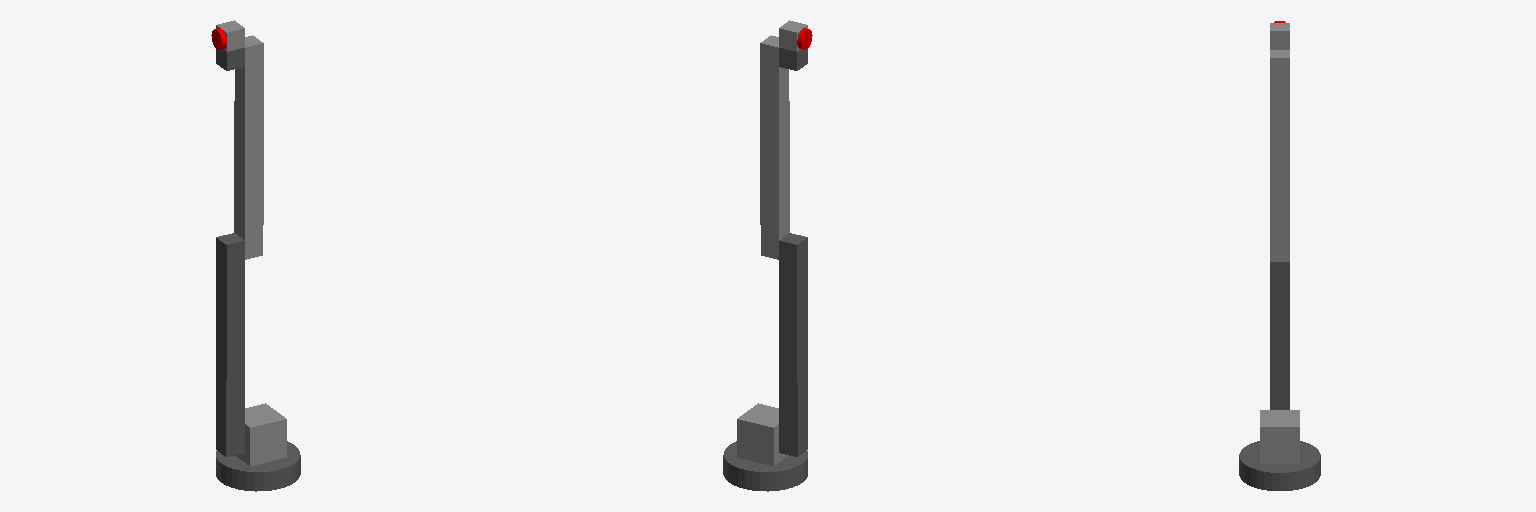
robot.urdf — my_robot:
<?xml version="1.0" ?>
<robot name="my_robot">
    <material name="red">
        <color rgba="1.0 0.0 0.0 1.0" />
    </material>
    n
    <material name="green">
        <color rgba="0.0 1.0 0.0 1.0" />
    </material>
    <material name="blue">
        <color rgba="0.0 0.0 1.0 1.0" />
    </material>
    <material name="dark">
        <color rgba="0.4 0.4 0.4 1.0" />
    </material>
    <material name="light">
        <color rgba="0.6 0.6 0.6 1.0" />
    </material>
    <link name="base_link">
        <visual>
            <geometry>
                <cylinder length="0.05" radius="0.1" />
            </geometry>
            <origin rpy="0 0 0" xyz="0 0 -0.025" />
            <material name="dark" />
        </visual>
    </link>
    <link name="link1">
        <visual>
            <geometry>
                <box size="0.1 0.1 0.1" />
            </geometry>
            <origin rpy="0 0 0" xyz="0 0 0.05" />
            <material name="light" />
        </visual>
    </link>
    <link name="link2">
        <visual>
            <geometry>
                <box size="0.55 0.05 0.05" />
            </geometry>
            <origin rpy="0 0 0" xyz="0.25 0 0.075" />
            <material name="dark" />
        </visual>
    </link>
    <link name="link3">
        <visual>
            <geometry>
                <box size="0.55 0.05 0.05" />
            </geometry>
            <origin rpy="0 0 0" xyz="0.25 0 0.025" />
            <material name="light" />
        </visual>
    </link>
    <link name="link4">
        <visual>
            <geometry>
                <box size="0.05 0.05 0.05" />
            </geometry>
            <origin rpy="0 0 0" xyz="0 0 0.075" />
            <material name="dark" />
        </visual>
    </link>
    <link name="link5">
        <visual>
            <geometry>
                <box size="0.05 0.05 0.05" />
            </geometry>
            <origin rpy="0 0 0" xyz="0 0 0.05" />
            <material name="light" />
        </visual>
    </link>
    <link name="link6">
        <visual>
            <geometry>
                <cylinder length="0.025" radius="0.025" />
            </geometry>
            <origin rpy="0 0 0" xyz="0 0 -0.0125" />
            <material name="red" />
        </visual>
    </link>
    <joint name="joint1" type="revolute">
        <parent link="base_link" />
        <child link="link1" />
        <origin rpy="0 0 0" xyz="0 0 0" />
        <axis xyz="0 0 1" />
        <limit lower="-6.28" upper="6.28" velocity="1.0" effort="1000.0" />
    </joint>
    <joint name="joint2" type="revolute">
        <parent link="link1" />
        <child link="link2" />
        <origin rpy="0 -1.57 0" xyz="0 0 0.05" />
        <axis xyz="0 0 1" />
        <limit lower="-6.28" upper="6.28" velocity="1.0" effort="1000.0" />
    </joint>
    <joint name="joint3" type="revolute">
        <parent link="link2" />
        <child link="link3" />
        <origin rpy="0 0 0" xyz="0.5 0 0" />
        <axis xyz="0 0 1" />
        <limit lower="-6.28" upper="6.28" velocity="1.0" effort="1000.0" />
    </joint>
    <joint name="joint4" type="revolute">
        <parent link="link3" />
        <child link="link4" />
        <origin rpy="0 0 0" xyz="0.5 0 0" />
        <axis xyz="0 0 1" />
        <limit lower="-6.28" upper="6.28" velocity="1.0" effort="1000.0" />
    </joint>
    <joint name="joint5" type="revolute">
        <parent link="link4" />
        <child link="link5" />
        <origin rpy="0 1.57 0" xyz="0 0 0.075" />
        <axis xyz="0 0 1" />
        <limit lower="-6.28" upper="6.28" velocity="1.0" effort="1000.0" />
    </joint>
    <joint name="joint6" type="revolute">
        <parent link="link5" />
        <child link="link6" />
        <origin rpy="0 -1.57 0" xyz="-0.0375 0 0.05" />
        <axis xyz="0 0 1" />
        <limit lower="-6.28" upper="6.28" velocity="1.0" effort="1000.0" />
    </joint>
    
<transmission name="trans_joint1">
        <type>transmission_interface/SimpleTransmission</type>
        <joint name="joint1">
            <hardwareInterface>hardware_interface/EffortJointInterface</hardwareInterface>
        </joint>
        <actuator name="joint1_motor">
            <hardwareInterface>hardware_interface/EffortJointInterface</hardwareInterface>
            <mechanicalReduction>1</mechanicalReduction>
        </actuator>
    </transmission>
    <transmission name="trans_joint2">
        <type>transmission_interface/SimpleTransmission</type>
        <joint name="joint2">
            <hardwareInterface>hardware_interface/EffortJointInterface</hardwareInterface>
        </joint>
        <actuator name="joint2_motor">
            <hardwareInterface>hardware_interface/EffortJointInterface</hardwareInterface>
            <mechanicalReduction>1</mechanicalReduction>
        </actuator>
    </transmission>
    <transmission name="trans_joint3">
        <type>transmission_interface/SimpleTransmission</type>
        <joint name="joint3">
            <hardwareInterface>hardware_interface/EffortJointInterface</hardwareInterface>
        </joint>
        <actuator name="joint3_motor">
            <hardwareInterface>hardware_interface/EffortJointInterface</hardwareInterface>
            <mechanicalReduction>1</mechanicalReduction>
        </actuator>
    </transmission>
    <transmission name="trans_joint4">
        <type>transmission_interface/SimpleTransmission</type>
        <joint name="joint4">
            <hardwareInterface>hardware_interface/EffortJointInterface</hardwareInterface>
        </joint>
        <actuator name="joint4_motor">
            <hardwareInterface>hardware_interface/EffortJointInterface</hardwareInterface>
            <mechanicalReduction>1</mechanicalReduction>
        </actuator>
    </transmission>
    <transmission name="trans_joint5">
        <type>transmission_interface/SimpleTransmission</type>
        <joint name="joint5">
            <hardwareInterface>hardware_interface/EffortJointInterface</hardwareInterface>
        </joint>
        <actuator name="joint5_motor">
            <hardwareInterface>hardware_interface/EffortJointInterface</hardwareInterface>
            <mechanicalReduction>1</mechanicalReduction>
        </actuator>
    </transmission>
    <transmission name="trans_joint6">
        <type>transmission_interface/SimpleTransmission</type>
        <joint name="joint6">
            <hardwareInterface>hardware_interface/EffortJointInterface</hardwareInterface>
        </joint>
        <actuator name="joint6_motor">
            <hardwareInterface>hardware_interface/EffortJointInterface</hardwareInterface>
            <mechanicalReduction>1</mechanicalReduction>
        </actuator>
    </transmission>
    <gazebo>
        <plugin name="gazebo_ros_control" filename="libgazebo_ros_control.so">
            <robotNamespace>/</robotNamespace>
        </plugin>
    </gazebo>
</robot>

--- Facts derived from the render (not from the file) ---
3 views of the same robot in one strip: view 1: azimuth 30°, elevation 25°; view 2: azimuth 150°, elevation 25°; view 3: azimuth 270°, elevation 25° (orthographic).
Robot: my_robot — 7 links, 6 joints (6 revolute); root link base_link; default pose: all joints at 0.
Visible links, largest first — view 1: link2, link3, base_link, link1, link5, link4; view 2: link2, link3, base_link, link1, link5, link4; view 3: link3, link2, base_link, link1, link5.
Boxes of the visible links, x1,y1,x2,y2 form: link2: (216, 233, 244, 456); link3: (234, 35, 263, 259); base_link: (216, 441, 300, 491); link1: (235, 403, 286, 465); link5: (216, 20, 244, 51); link4: (216, 48, 244, 70); link2: (779, 233, 807, 456); link3: (760, 35, 789, 259); base_link: (723, 441, 807, 491); link1: (737, 403, 788, 465); link5: (779, 20, 807, 51); link4: (779, 48, 807, 70); link3: (1270, 50, 1289, 261); link2: (1270, 262, 1289, 409); base_link: (1239, 441, 1320, 490); link1: (1260, 410, 1299, 463); link5: (1270, 23, 1289, 49).
Bounding box of the posed robot: 0.2117 × 0.2 × 1.18 m (x, y, z).
Geometry: primitives only (box / cylinder / sphere), no mesh files.